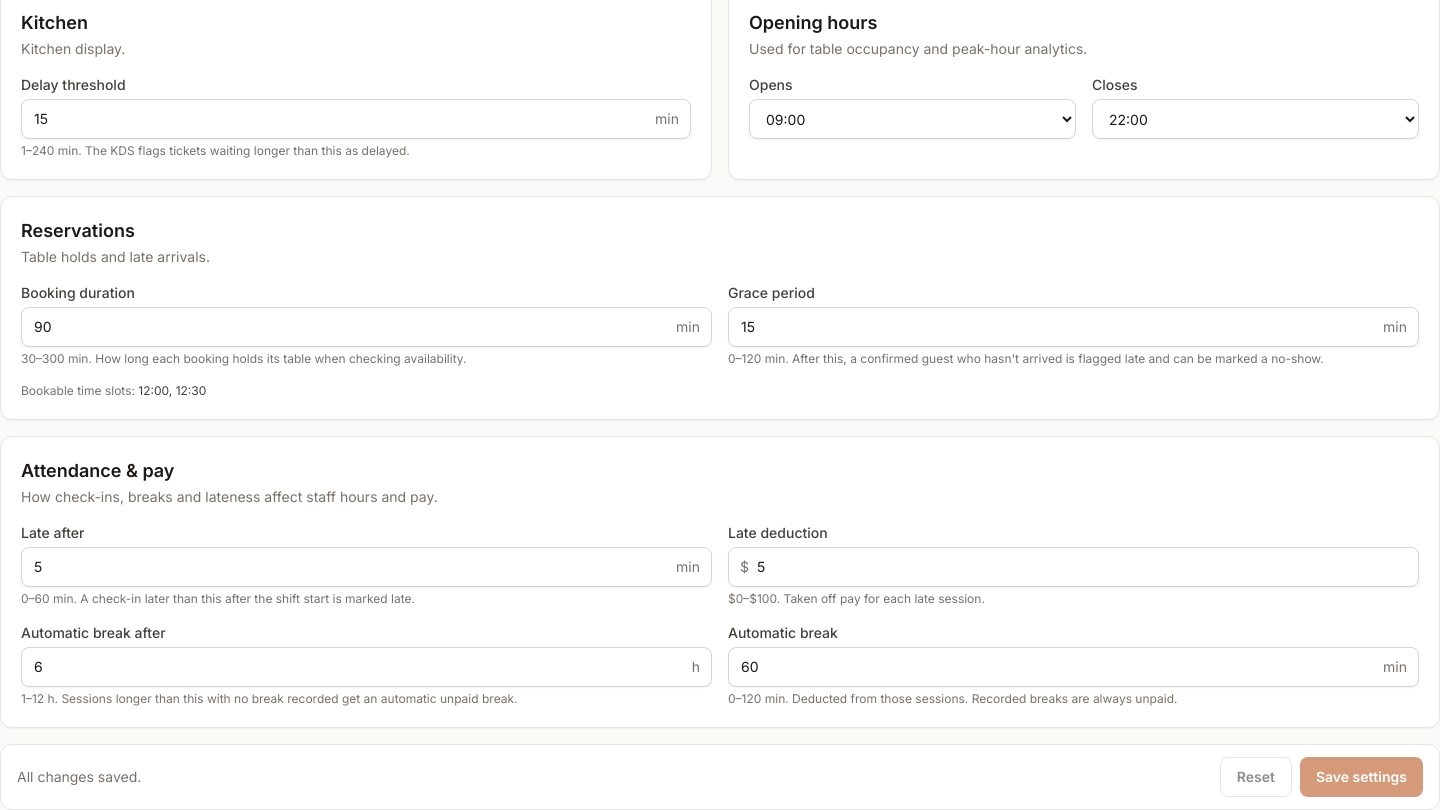
Scenario: SettingsForm › maps an attendance validation error onto its field
(page scrolled)
Replace the text in the number field labelled "Late deduction" with "150" at {"x": 1074, "y": 567}, box [728,547,1419,587]
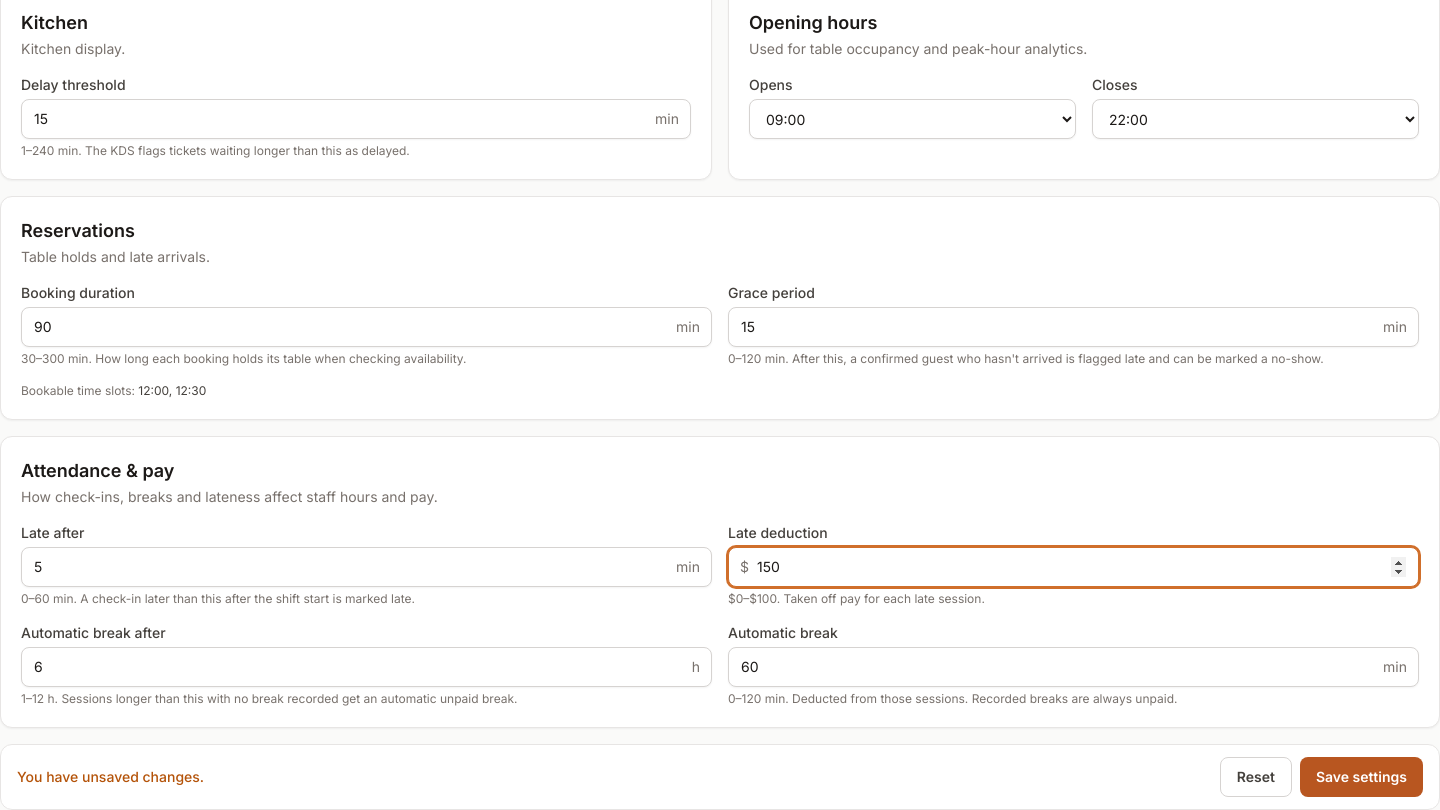
Click the button "Save settings".
click(1361, 777)  # box [1300,757,1423,797]
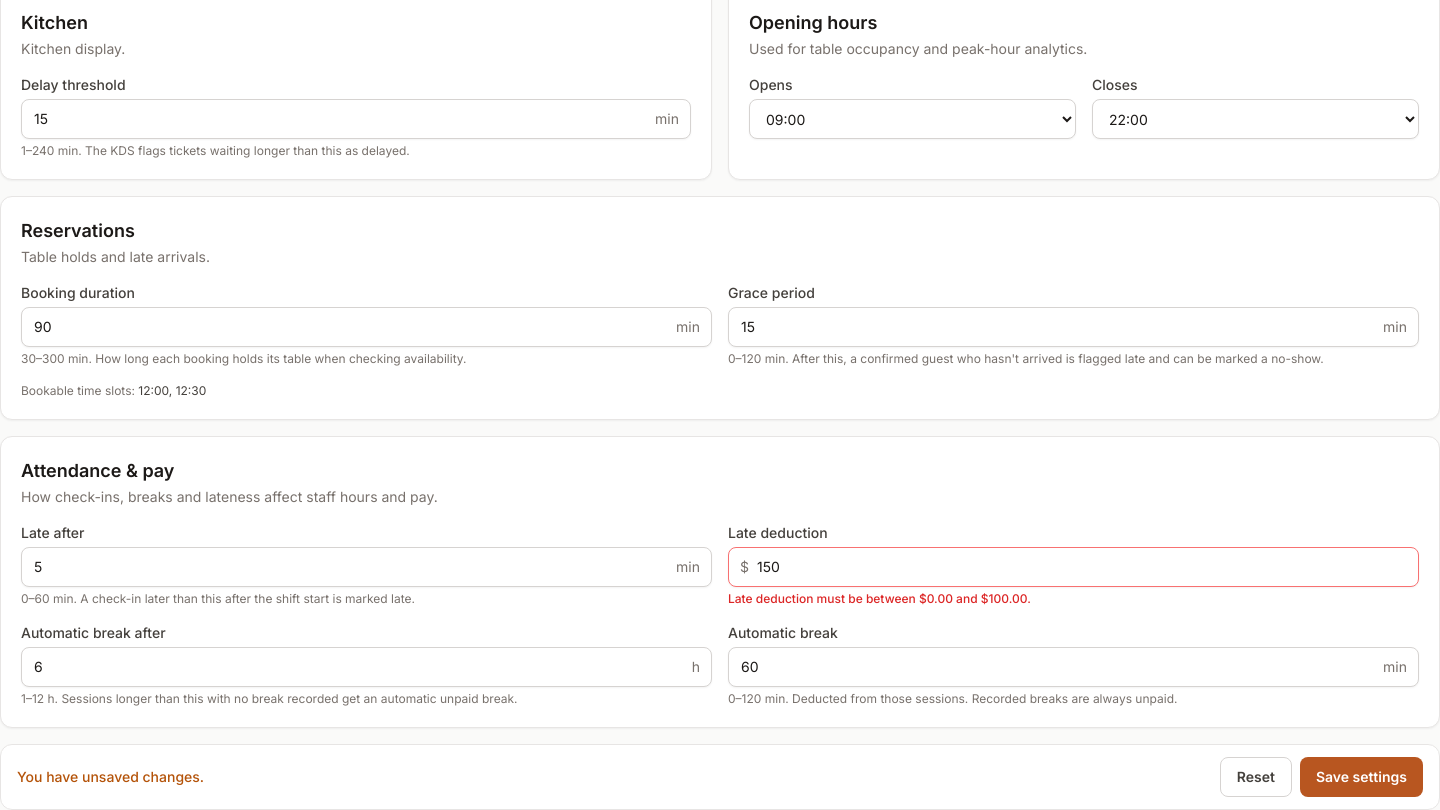
Now the text "Late deduction must be between $0.00 and $100.00." is shown, box [728,591,1031,606]
